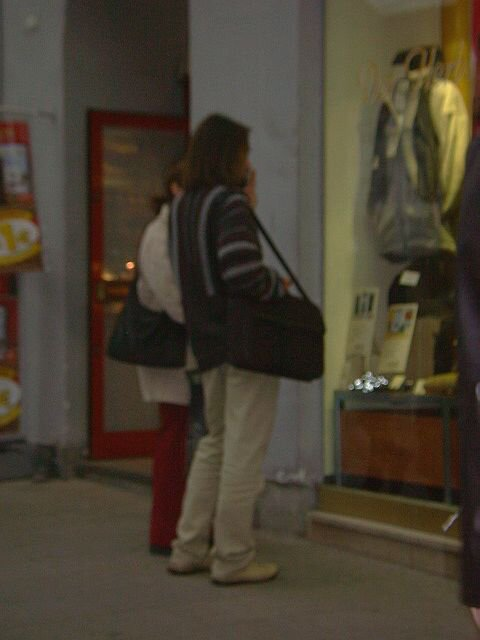person: (165, 114, 322, 585)
